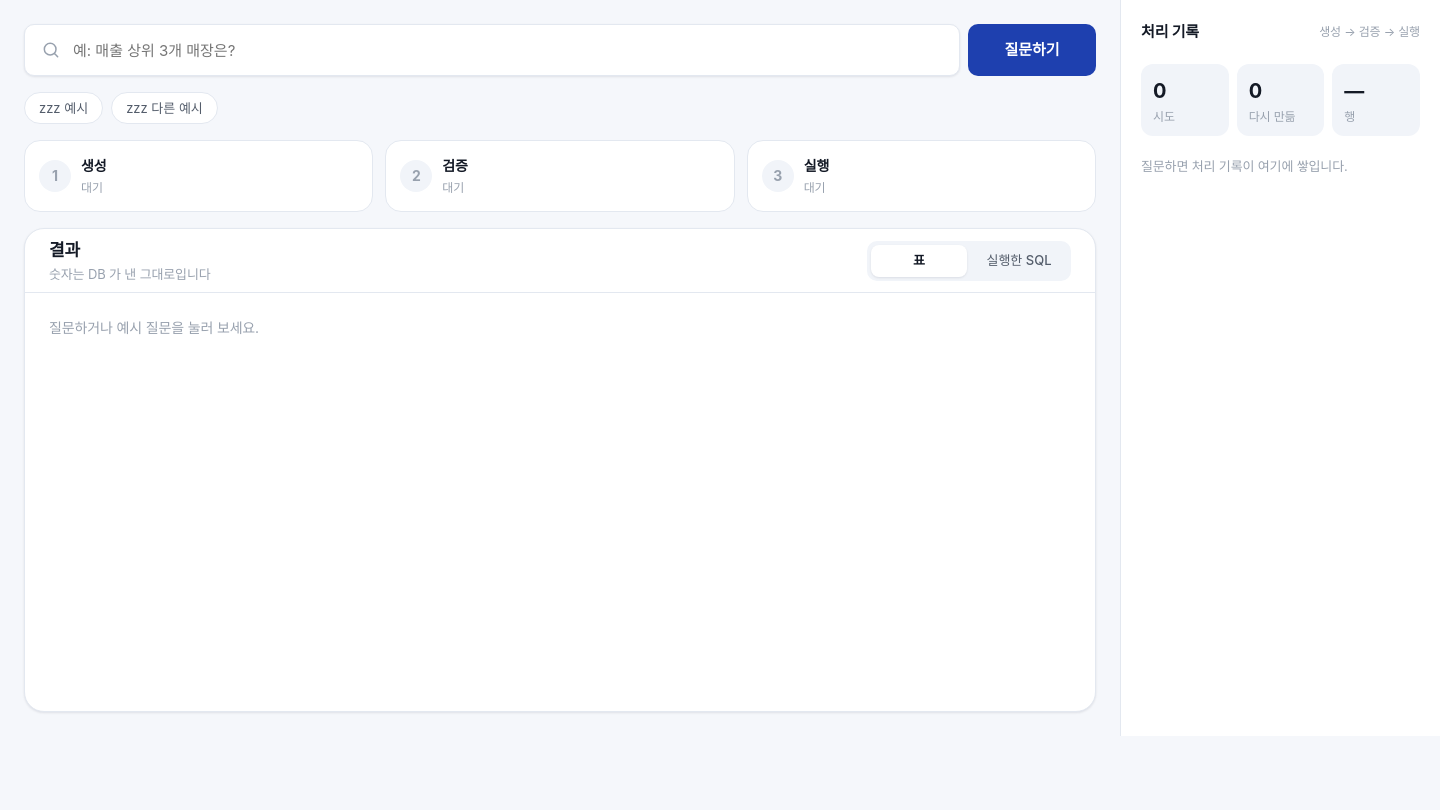
AskQuery › 검증 전에 실패하면 결과 카드에 사유를 알리고, 처리 기록 끝에도 남기며, 「만든 SQL」은 남는다 — 위의 짝 (SCR-R009 · SCR-R010)
Step 1. Click the button "zzz 예시" → click(64, 108), box [24, 92, 103, 124]
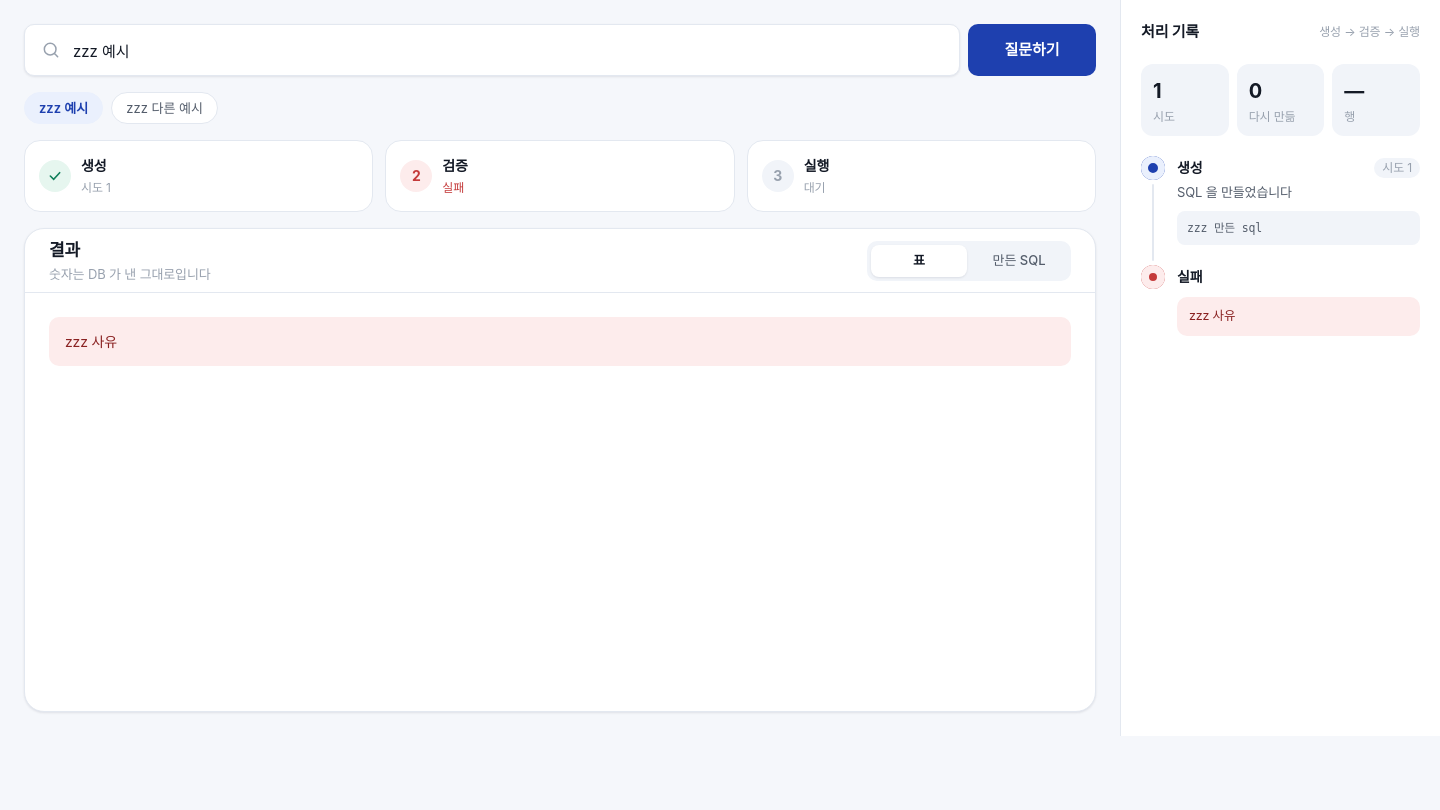
Now the message reads "zzz 사유", box [65, 333, 117, 350]
Now the list item "실패 zzz 사유" is shown, box [1141, 265, 1420, 356]
Step 2. Click the tab "만든 SQL" → click(1019, 260), box [971, 244, 1067, 276]
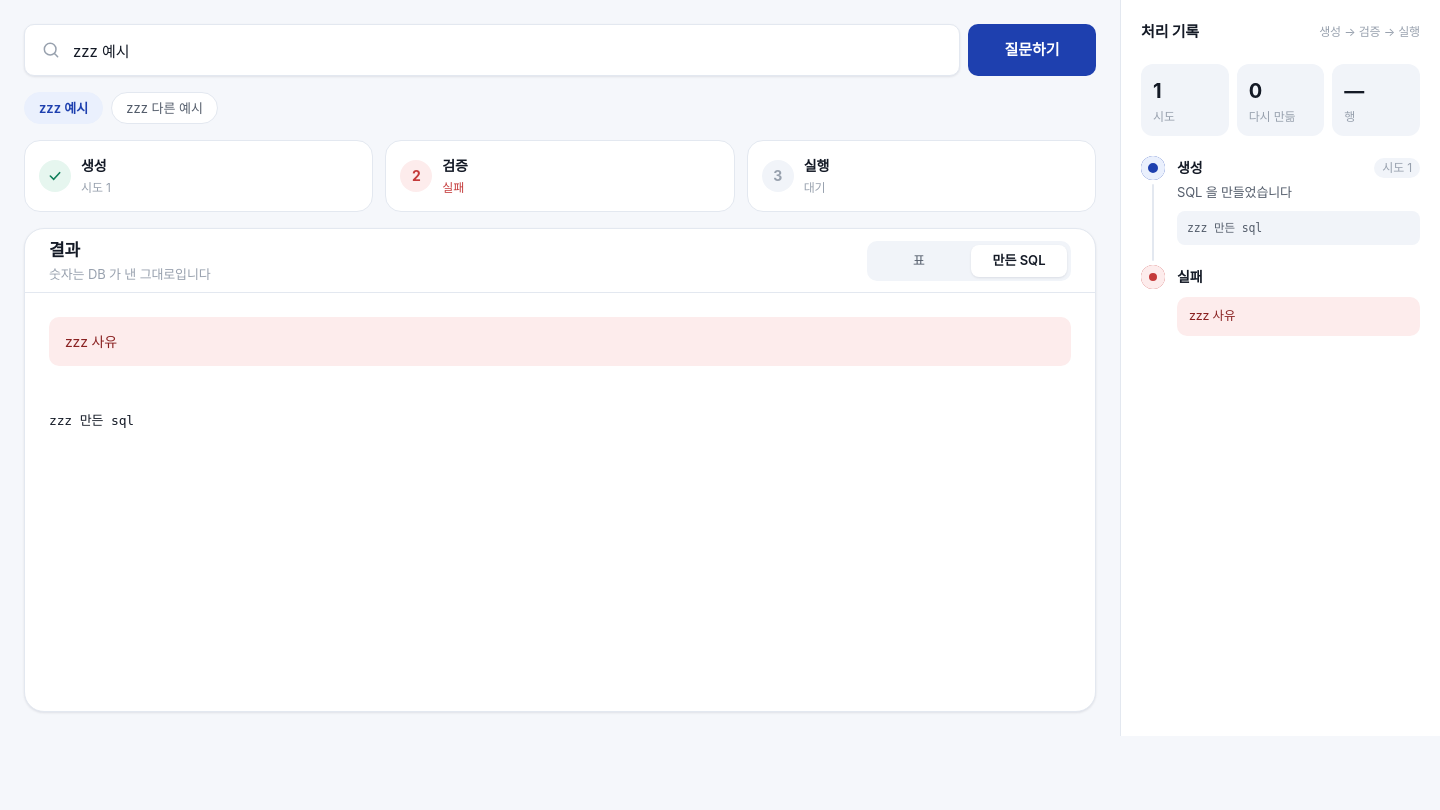
Now the message reads "zzz 사유", box [65, 333, 117, 350]
Now the text "zzz 만든 sql" below "숫자는 DB 가 낸 그대로입니다" is shown, box [49, 413, 134, 428]
